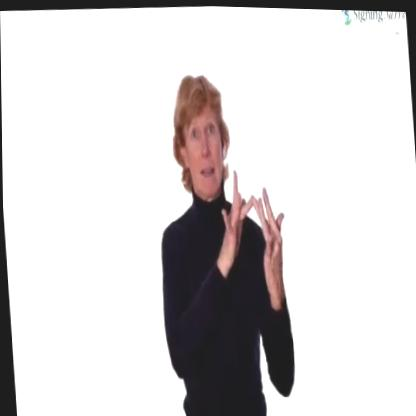Internet: (146, 64, 299, 416)
